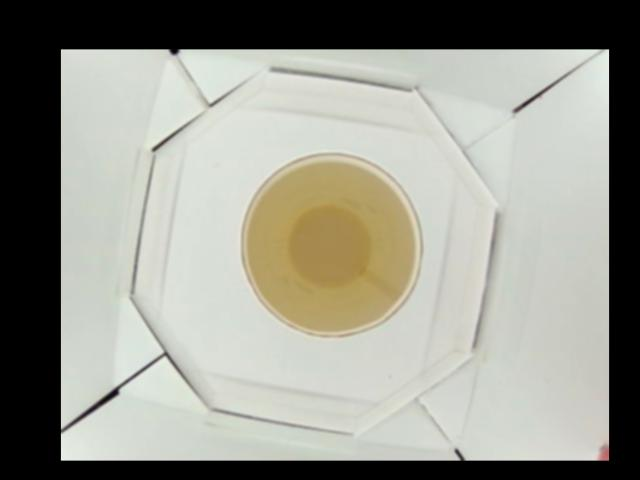Cup: (238, 151, 421, 338)
